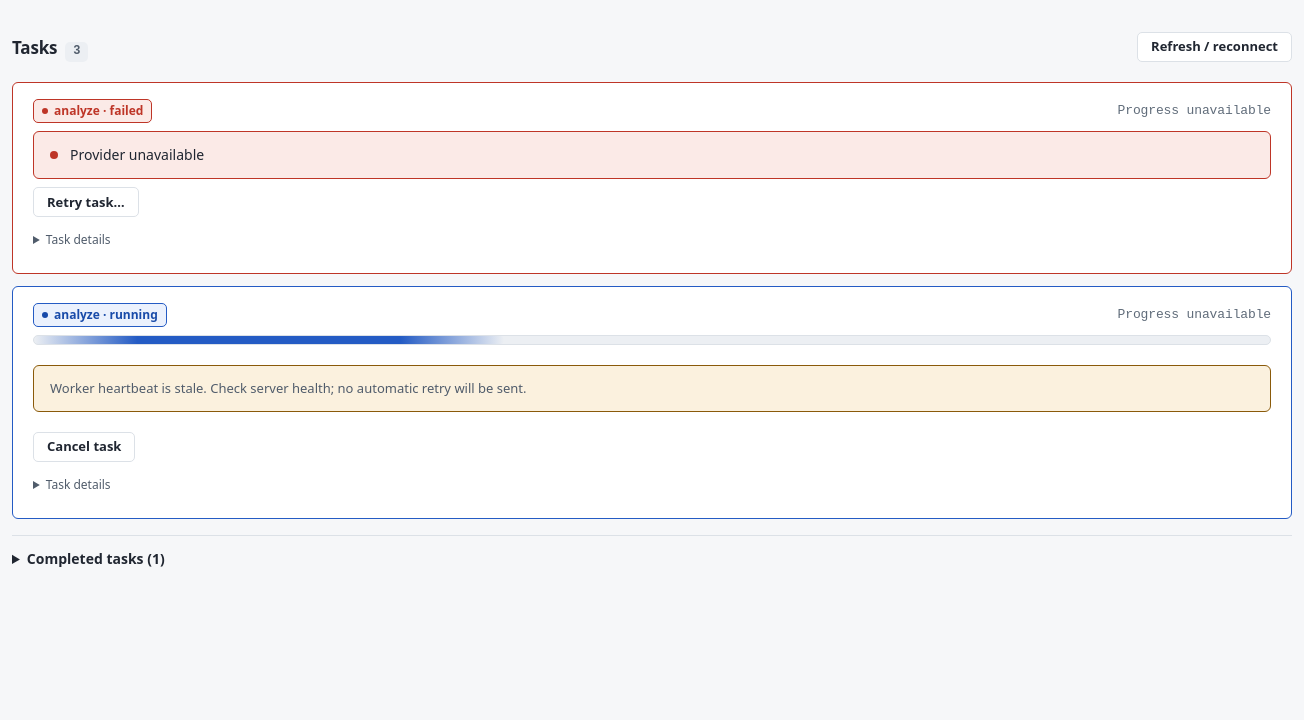
Test: progressive disclosure without hiding failures › omits empty task chrome, folds success history, keeps failures and active controls visible
expect the message "Provider unavailable" is shown: met, box top-left (33, 131), bottom-right (1271, 179)
expect the button "Retry task…" is shown: met, box top-left (33, 187), bottom-right (139, 217)
Click the heading "Completed tasks (1)": (96, 559) top-left (27, 549), bottom-right (165, 568)
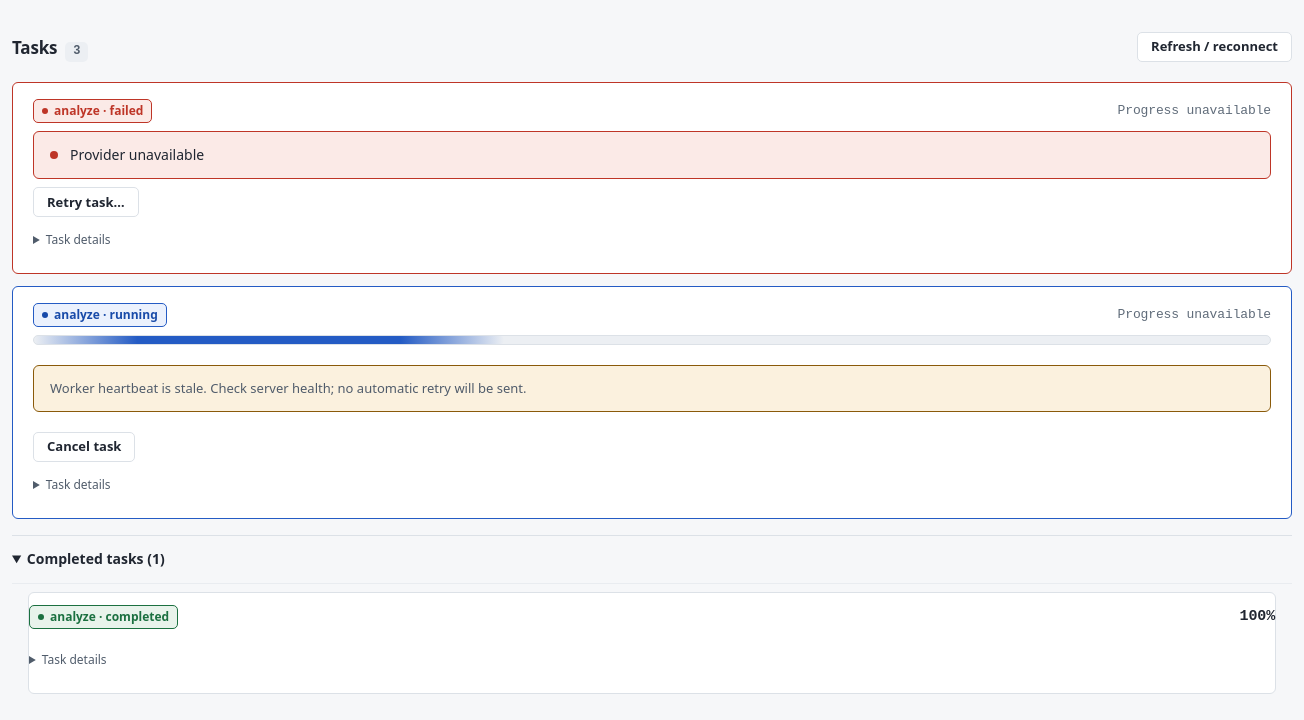
expect the element named "analyze done" is shown: met, box top-left (28, 592), bottom-right (1276, 694)
